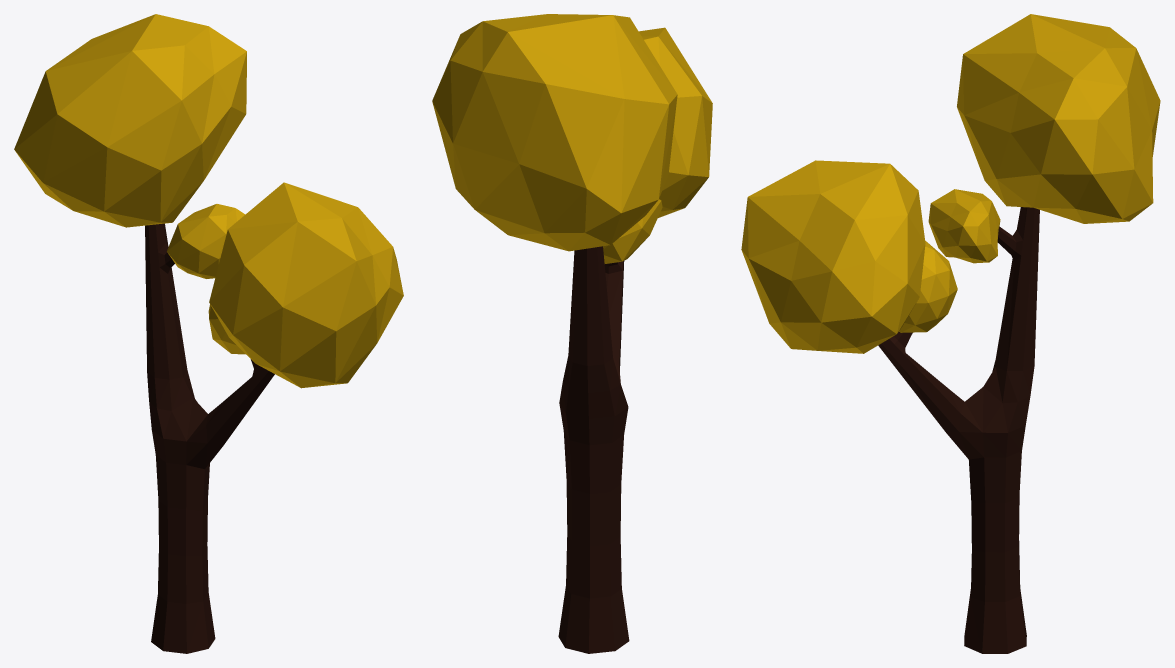
The model's file is t7-yellow.obj.
3 renders of one model, left to right at view 1: azimuth 30°, elevation 25°; view 2: azimuth 150°, elevation 25°; view 3: azimuth 270°, elevation 25°, orthographic. The views are drawn at different scales.
Visible parts, largest first — view 1: t7-yellow_Cylinder.027; view 2: t7-yellow_Cylinder.027; view 3: t7-yellow_Cylinder.027.
Boxes of the visible parts, x1,y1,x2,y2 form: t7-yellow_Cylinder.027: (14,14,403,653); t7-yellow_Cylinder.027: (432,14,712,653); t7-yellow_Cylinder.027: (741,14,1160,653).
Size of the model in its own units: 4.54 by 10.02 by 6.25.
